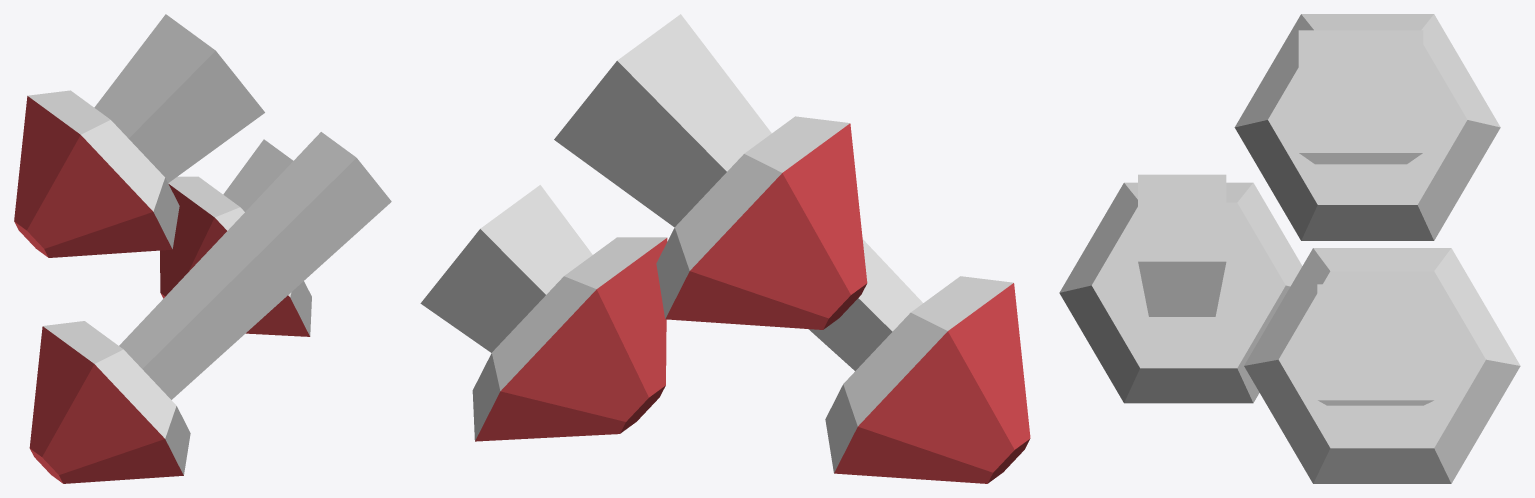
File: mushroomhat.fbx
3 renders of one model, left to right at view 1: azimuth 30°, elevation 25°; view 2: azimuth 150°, elevation 25°; view 3: azimuth 270°, elevation 25°, orthographic. The views are drawn at different scales.
Parts seen in each view (by area): view 1: mushroomhat; view 2: mushroomhat; view 3: mushroomhat.
Part boxes in pixels (x1,y1,x2,y2): mushroomhat: [14, 14, 391, 483]; mushroomhat: [420, 14, 1030, 483]; mushroomhat: [1059, 14, 1520, 483].
Size of the model in its own units: 1.41 by 1.25 by 1.21.
